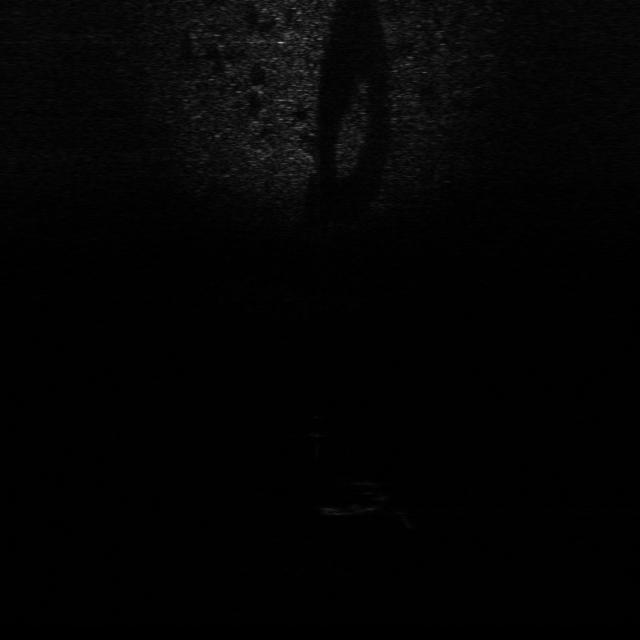ball: (298, 412, 338, 441)
tyre: (312, 481, 392, 516)
